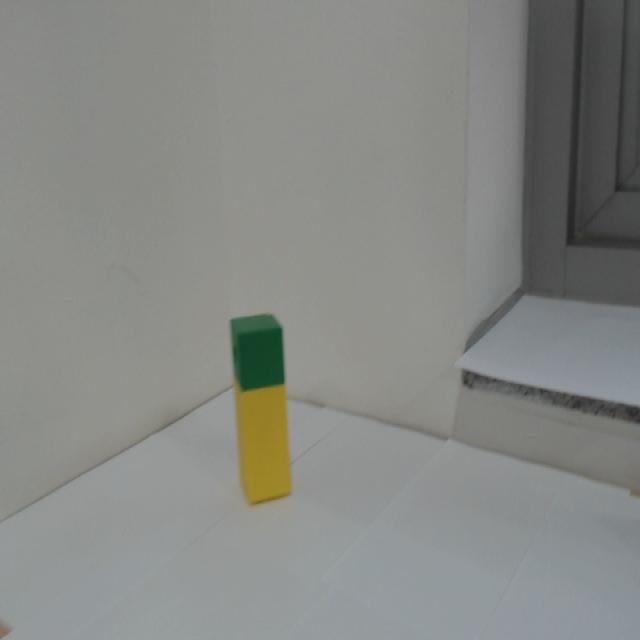cube: (230, 311, 285, 392)
